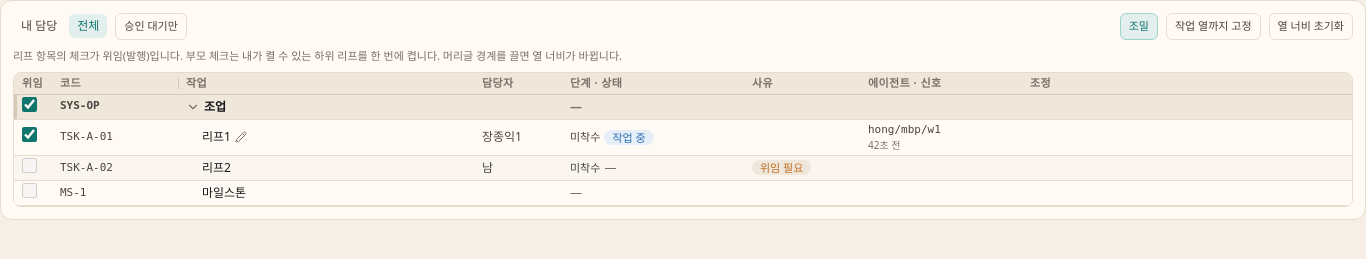
Test: DelegationTable — 체크는 즉시 표시·잠기지 않음, 1.5초 모아 묶음 1건, 응답의 허브로 교체(2026-09-14 체크 지연 개선) › 액션이 throw 하면(네트워크) 보낸 행에 그 메시지, 되돌림
Click the checkbox named "TSK-A-01 위임" at (30, 135), box [22,127,37,142]
Wait 1500 ms
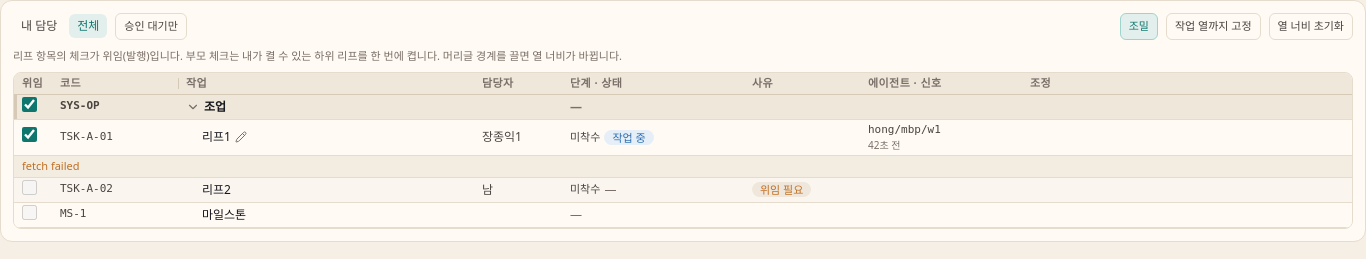
expect the text "fetch failed" is shown: met, box [22,158,80,173]
